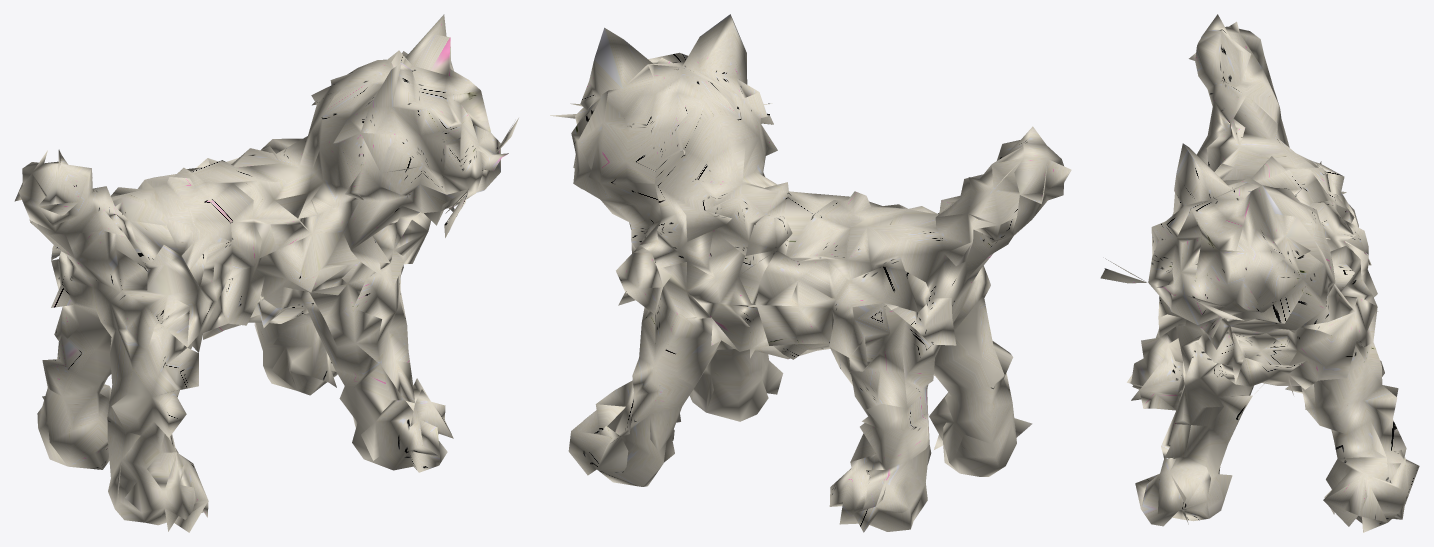
The model's file is CORSAGE-lo.glb.
3 views of the same model, side by side, from view 1: azimuth 30°, elevation 25°; view 2: azimuth 150°, elevation 25°; view 3: azimuth 270°, elevation 25° (orthographic). The views are drawn at different scales.
Visible parts, largest first — view 1: tripo_node_22ffcb30-f45e-407f-b49d-883fe25bd4b0; view 2: tripo_node_22ffcb30-f45e-407f-b49d-883fe25bd4b0; view 3: tripo_node_22ffcb30-f45e-407f-b49d-883fe25bd4b0.
Part boxes in pixels (x1=…): tripo_node_22ffcb30-f45e-407f-b49d-883fe25bd4b0: x1=14, y1=14, x2=518, y2=532; tripo_node_22ffcb30-f45e-407f-b49d-883fe25bd4b0: x1=550, y1=14, x2=1071, y2=532; tripo_node_22ffcb30-f45e-407f-b49d-883fe25bd4b0: x1=1100, y1=14, x2=1419, y2=532.
Size of the model in its own units: 1.35 by 1 by 0.7736.
Materials: 1 (1 with a texture image).
